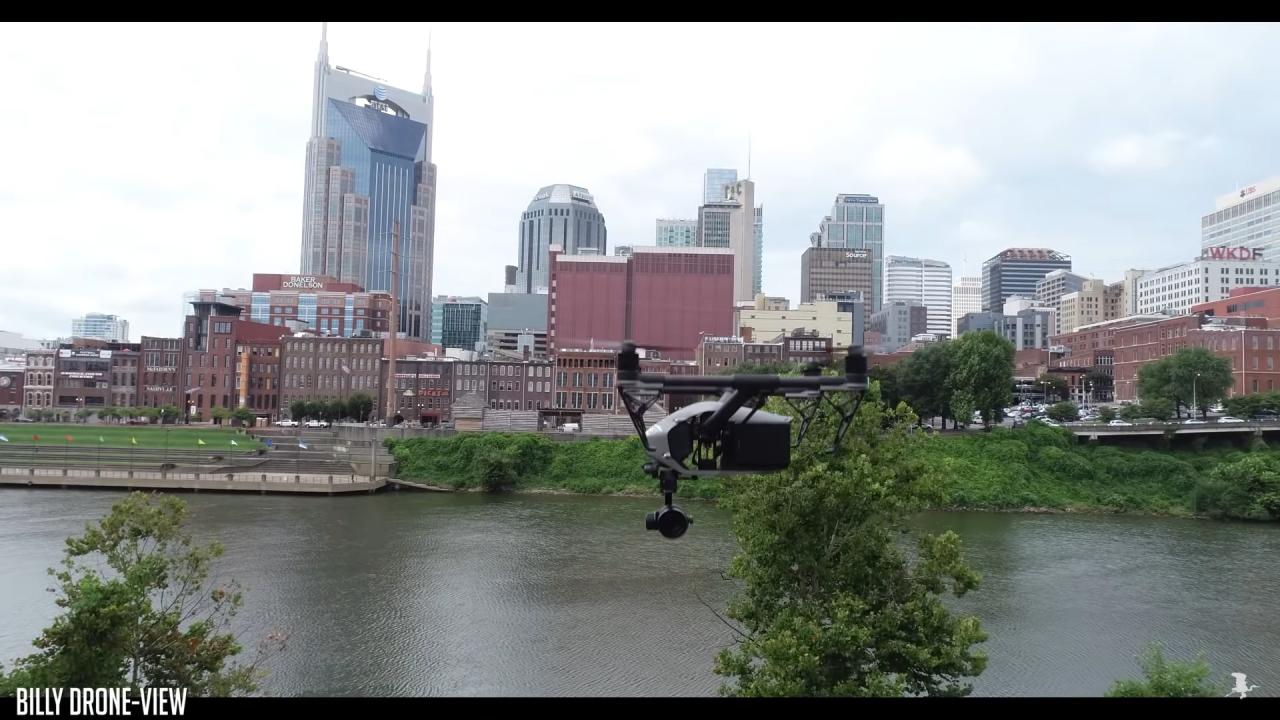Drone: (547, 325, 915, 552)
